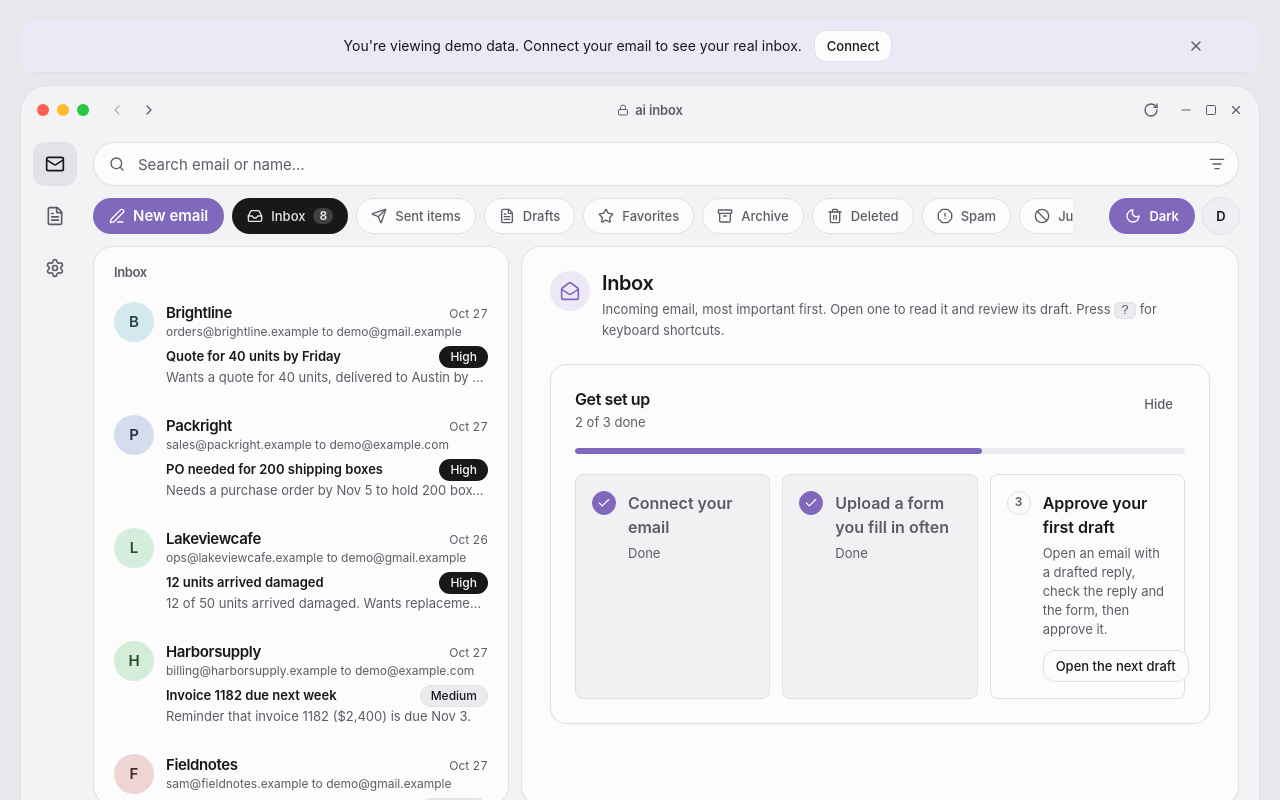
it: app › lets the demo banner be dismissed, and remembers it
The width and height of the screenshot is (1280, 800).
Click the button named "Dismiss announcement": (1196, 46) top-left (1180, 30), bottom-right (1212, 62)
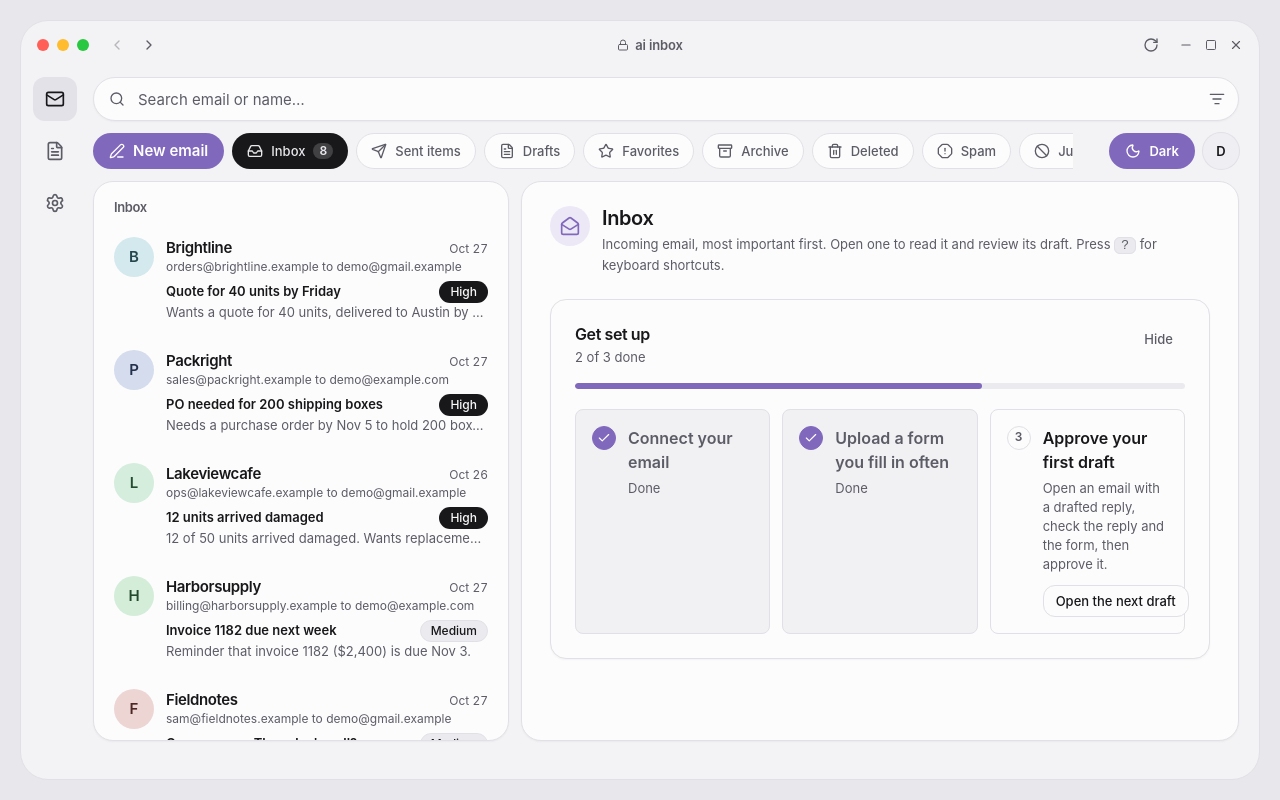
Check: the button "Announcement" is gone
